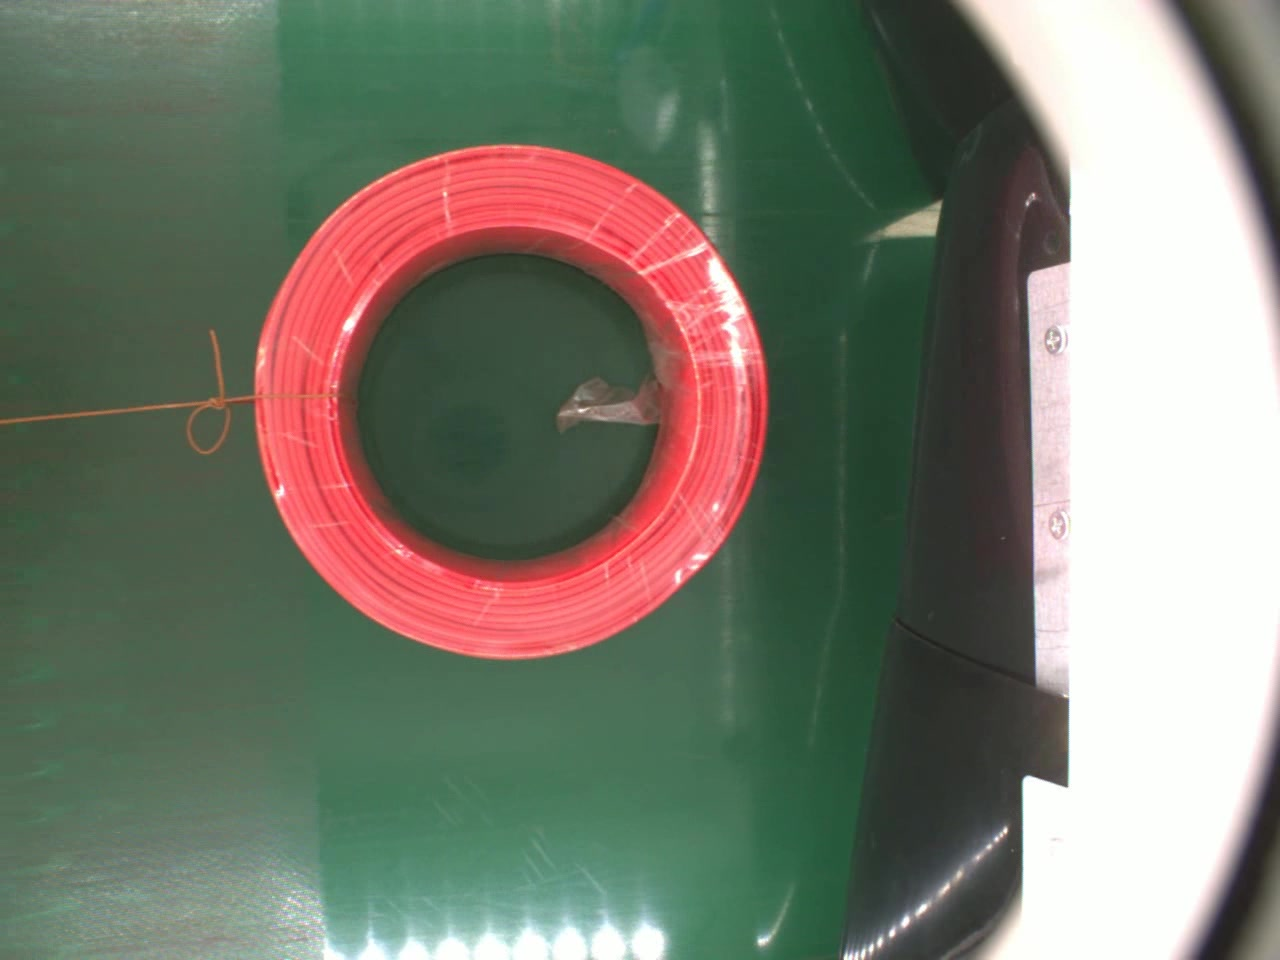red: (248, 137, 781, 664)
